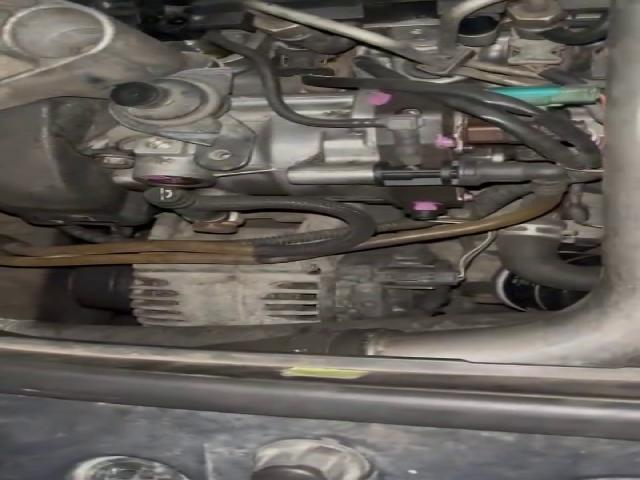alternator: (130, 258, 333, 326)
high_pressure_pump: (117, 90, 466, 219)
